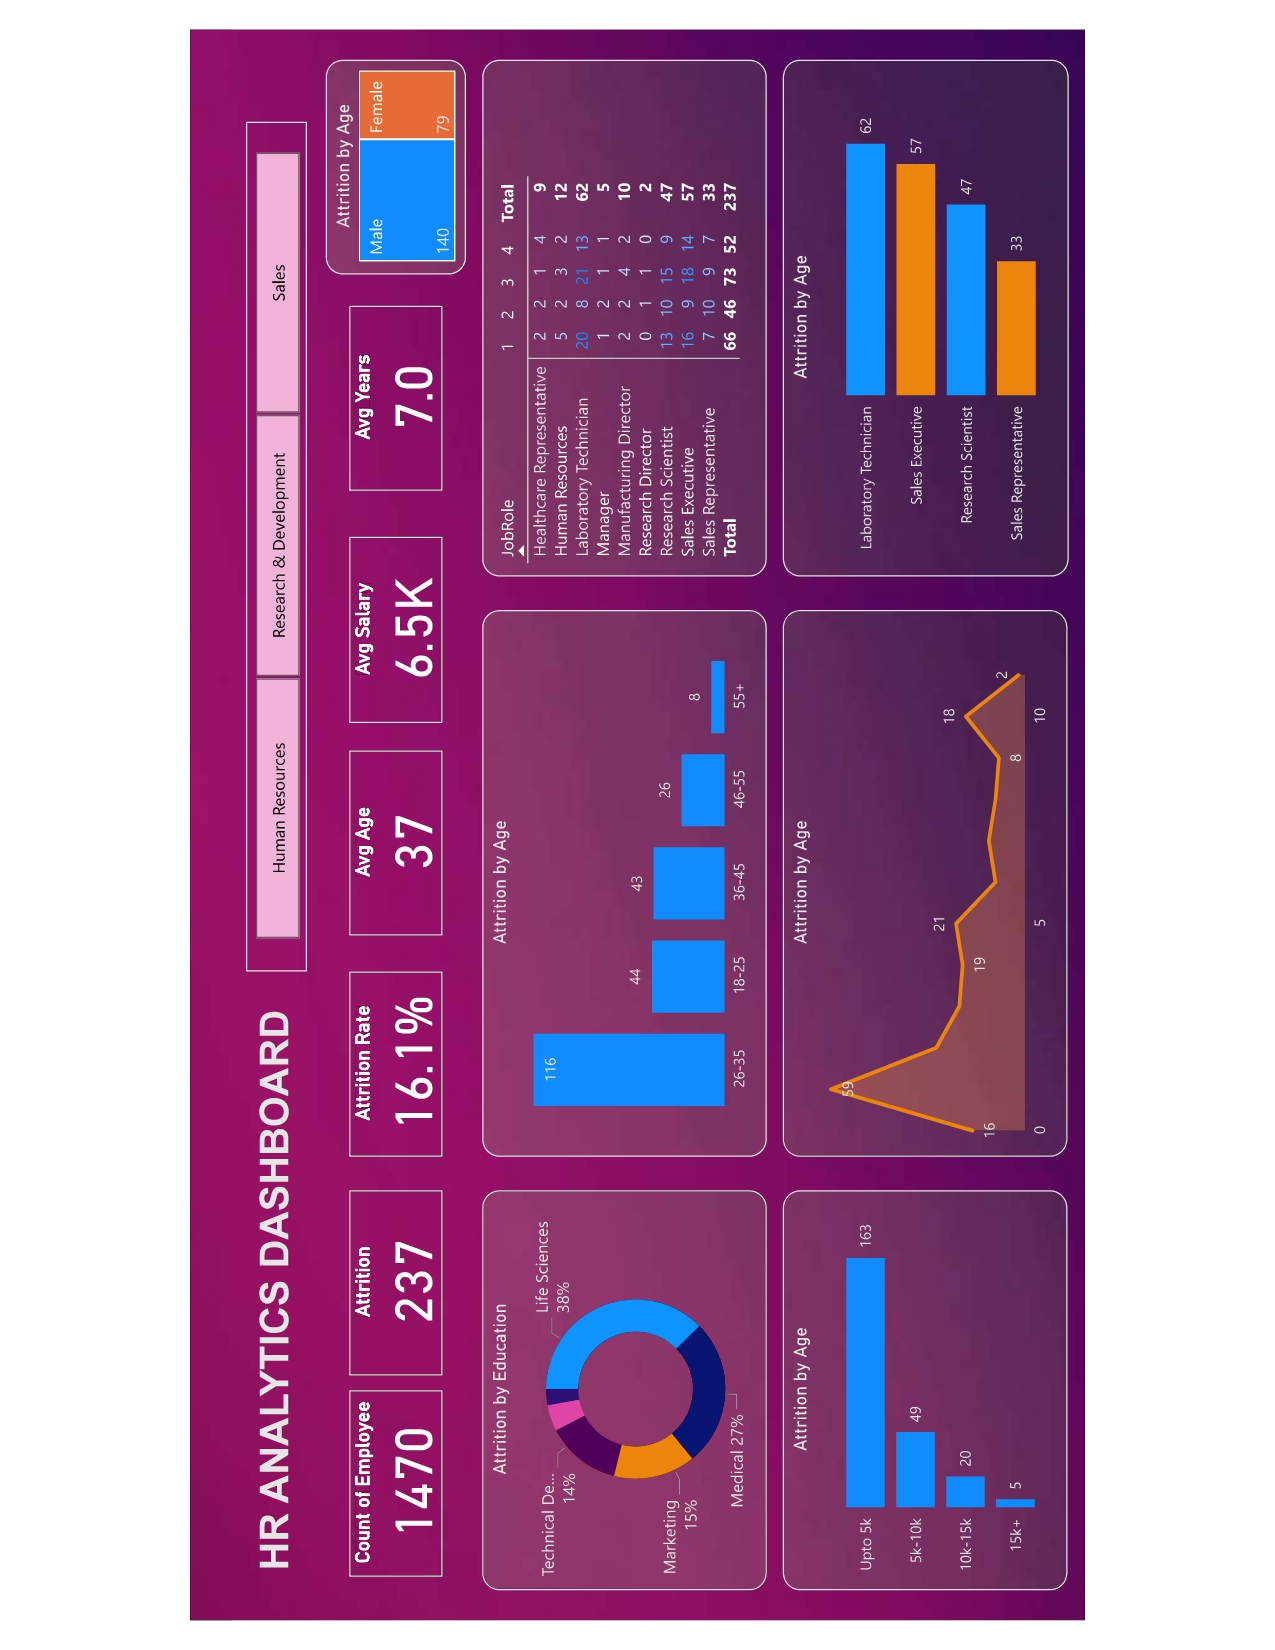

Layout of this report page (visuals, bound fields, positions):
{"tool":"powerbi","page":{"name":"Page 1","canvas":[1280,720],"ordinal":0},"visuals":[{"type":"card","title":"Count of Employee","fields":{"Values":["CountNonNull(HR_Analytics.EmpID)"]},"box":[35.3,127.7,149.5,75.6],"z":0},{"type":"card","title":"Attrition","fields":{"Values":["Sum(HR_Analytics.AttritionCount)"]},"box":[196.5,127.7,149.5,75.6],"z":1000},{"type":"card","title":"Attrition Rate","fields":{"Values":["HR_Analytics.AttritionRate"]},"box":[372.9,127.7,149.5,75.6],"z":2000},{"type":"card","title":"Avg Age","fields":{"Values":["Avg(HR_Analytics.Age)"]},"box":[551,127.7,149.5,75.6],"z":3000},{"type":"card","title":"Avg Salary","fields":{"Values":["Avg(HR_Analytics.MonthlyIncome)"]},"box":[722.3,127.7,149.5,75.6],"z":4000},{"type":"card","title":"Avg Years","fields":{"Values":["Avg(HR_Analytics.YearsAtCompany)"]},"box":[908.8,127.7,149.5,75.6],"z":5000},{"type":"donutChart","title":"Attrition by Education","fields":{"Category":["HR_Analytics.EducationField"],"Y":["Sum(HR_Analytics.AttritionCount)"]},"box":[23.5,235.2,322.5,228.5],"z":6000},{"type":"columnChart","title":"Attrition by Age","fields":{"Category":["HR_Analytics.AgeGroup"],"Y":["Sum(HR_Analytics.AttritionCount)"]},"box":[372.9,235.2,440.1,228.5],"z":7000},{"type":"pivotTable","fields":{"Rows":["HR_Analytics.JobRole"],"Columns":["HR_Analytics.JobSatisfaction"],"Values":["Sum(HR_Analytics.AttritionCount)"]},"box":[839.9,235.2,416.6,228.5],"z":8000},{"type":"barChart","title":"Attrition by Age","fields":{"Category":["HR_Analytics.SalarySlab"],"Y":["Sum(HR_Analytics.AttritionCount)"]},"box":[23.5,477.1,322.5,228.5],"z":9000},{"type":"barChart","title":"Attrition by Age","fields":{"Category":["HR_Analytics.JobRole"],"Y":["Sum(HR_Analytics.AttritionCount)"]},"box":[839.9,477.1,416.6,230.1],"z":10000},{"type":"areaChart","title":"Attrition by Age","fields":{"Category":["HR_Analytics.YearsAtCompany"],"Y":["Sum(HR_Analytics.AttritionCount)"]},"box":[372.9,477.1,440.1,228.5],"z":11000},{"type":"treemap","title":"Attrition by Age","fields":{"Group":["HR_Analytics.Gender"],"Values":["Sum(HR_Analytics.AttritionCount)"]},"box":[1083.5,109.2,173,112.5],"z":12000},{"type":"slicer","fields":{"Values":["HR_Analytics.Department"]},"box":[522.4,45.4,683.7,48.7],"z":13000},{"type":"textbox","box":[35.3,45.4,461.9,63.8],"z":14000}]}

Visuals, with their boxes on the page's 1280x720 design canvas (x1, y1, x2, y2). These are canvas units, not pixel positions in the 1275x1650 screenshot, which may show the page scaled, cropped or inside an application window:
"Count of Employee" card: [35,128,185,203]
"Attrition" card: [196,128,346,203]
"Attrition Rate" card: [373,128,522,203]
"Avg Age" card: [551,128,700,203]
"Avg Salary" card: [722,128,872,203]
"Avg Years" card: [909,128,1058,203]
"Attrition by Education" donutChart: [24,235,346,464]
"Attrition by Age" columnChart: [373,235,813,464]
pivotTable - HR_Analytics.JobRole x HR_Analytics.JobSatisfaction: [840,235,1256,464]
"Attrition by Age" barChart: [24,477,346,706]
"Attrition by Age" barChart: [840,477,1256,707]
"Attrition by Age" areaChart: [373,477,813,706]
"Attrition by Age" treemap: [1084,109,1256,222]
slicer - HR_Analytics.Department: [522,45,1206,94]
textbox: [35,45,497,109]
